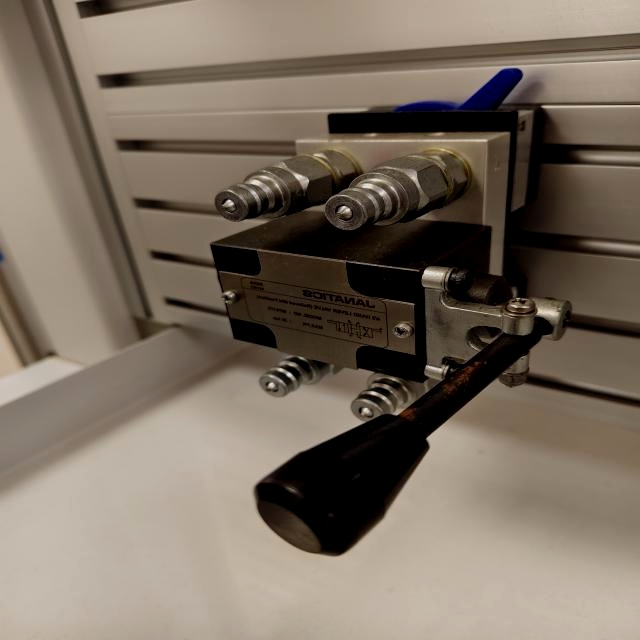4by3 hand lever valve: (200, 59, 575, 559)
